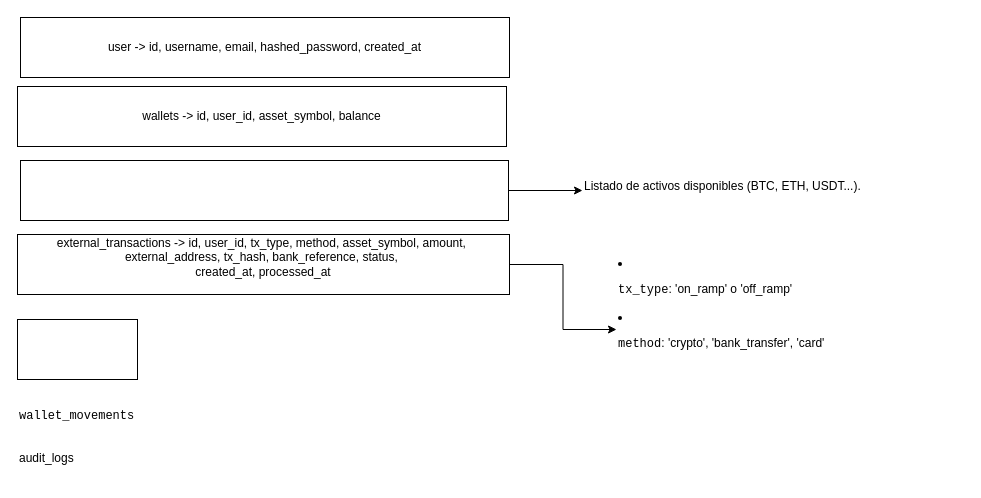
Image size: 981x498. Some labels were removed from this diagram. Each missing label, with the box of its shape:
assets -> symbol, name: (20, 160, 508, 220)
kyc: (16, 318, 138, 380)
